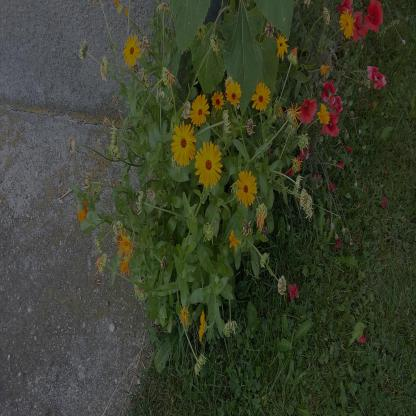marigold: (194, 141, 223, 189), (171, 121, 196, 167), (234, 170, 259, 207), (123, 33, 142, 69), (190, 93, 210, 127), (251, 80, 271, 112), (272, 29, 289, 60), (338, 10, 354, 40), (225, 80, 242, 107), (317, 100, 330, 126), (211, 89, 225, 110)
